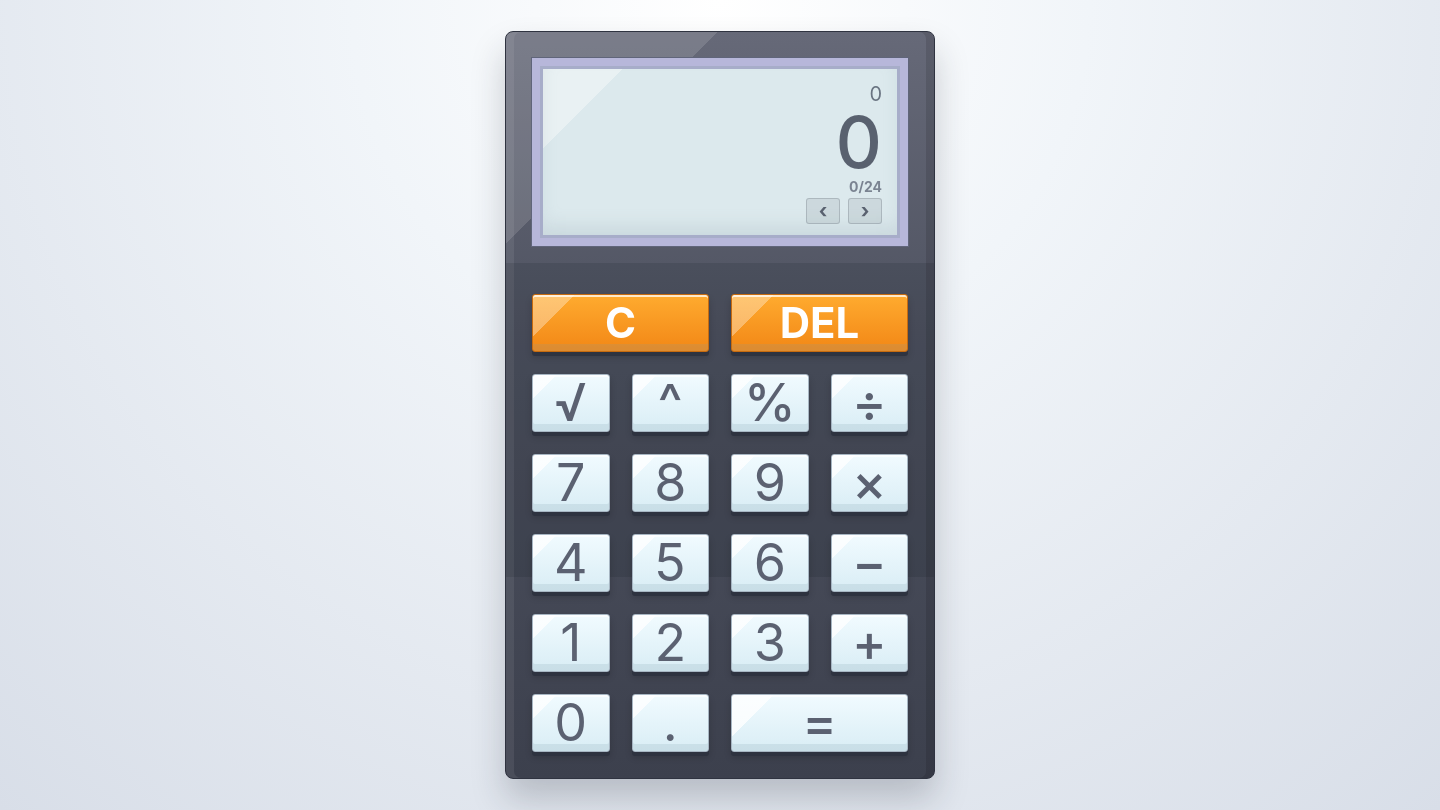
Test: App error handling › shows a local validation error for incomplete expressions
Click the button "1".
click(571, 643)  # box [532, 614, 610, 672]
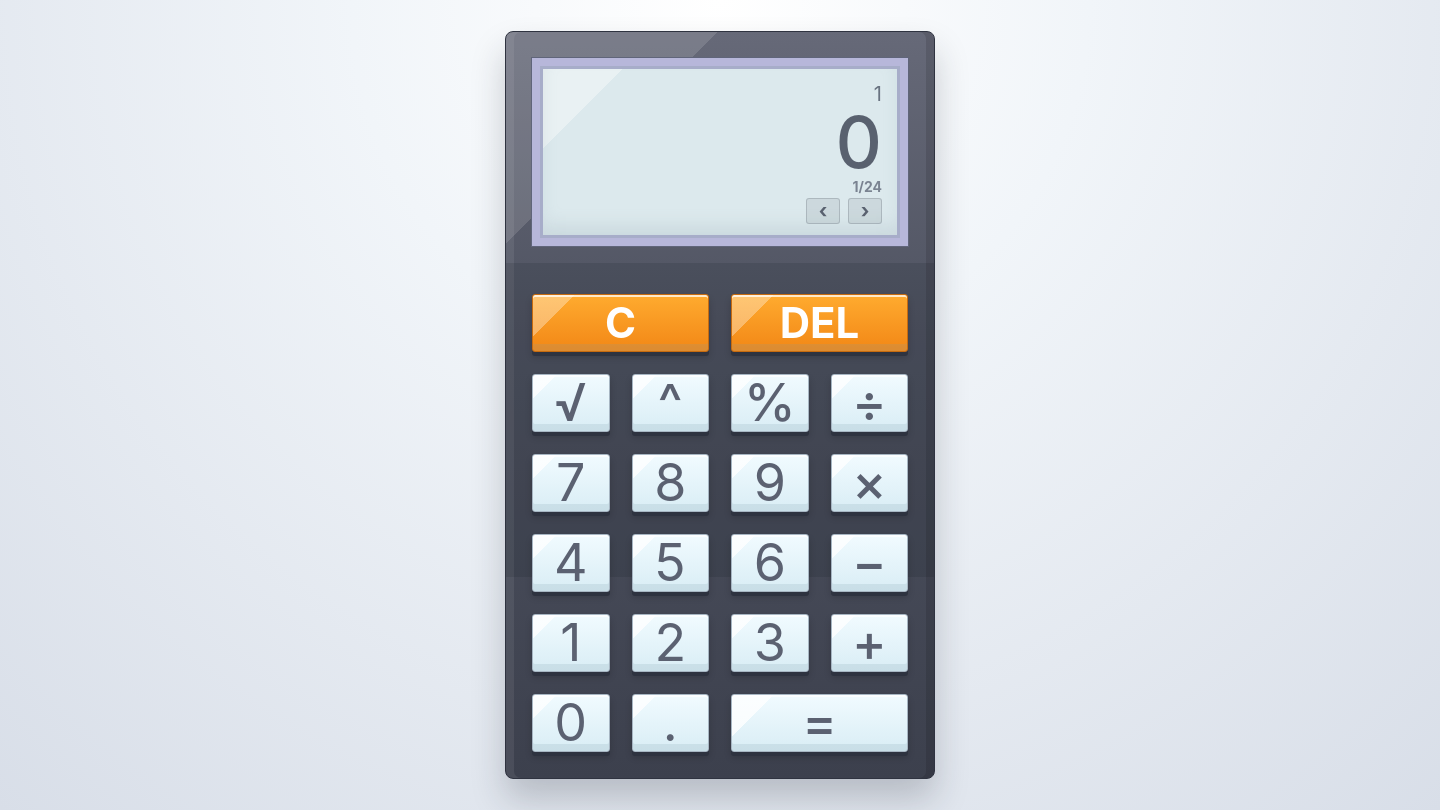
Click the button named "Sumar".
click(869, 643)  # box [830, 614, 908, 672]
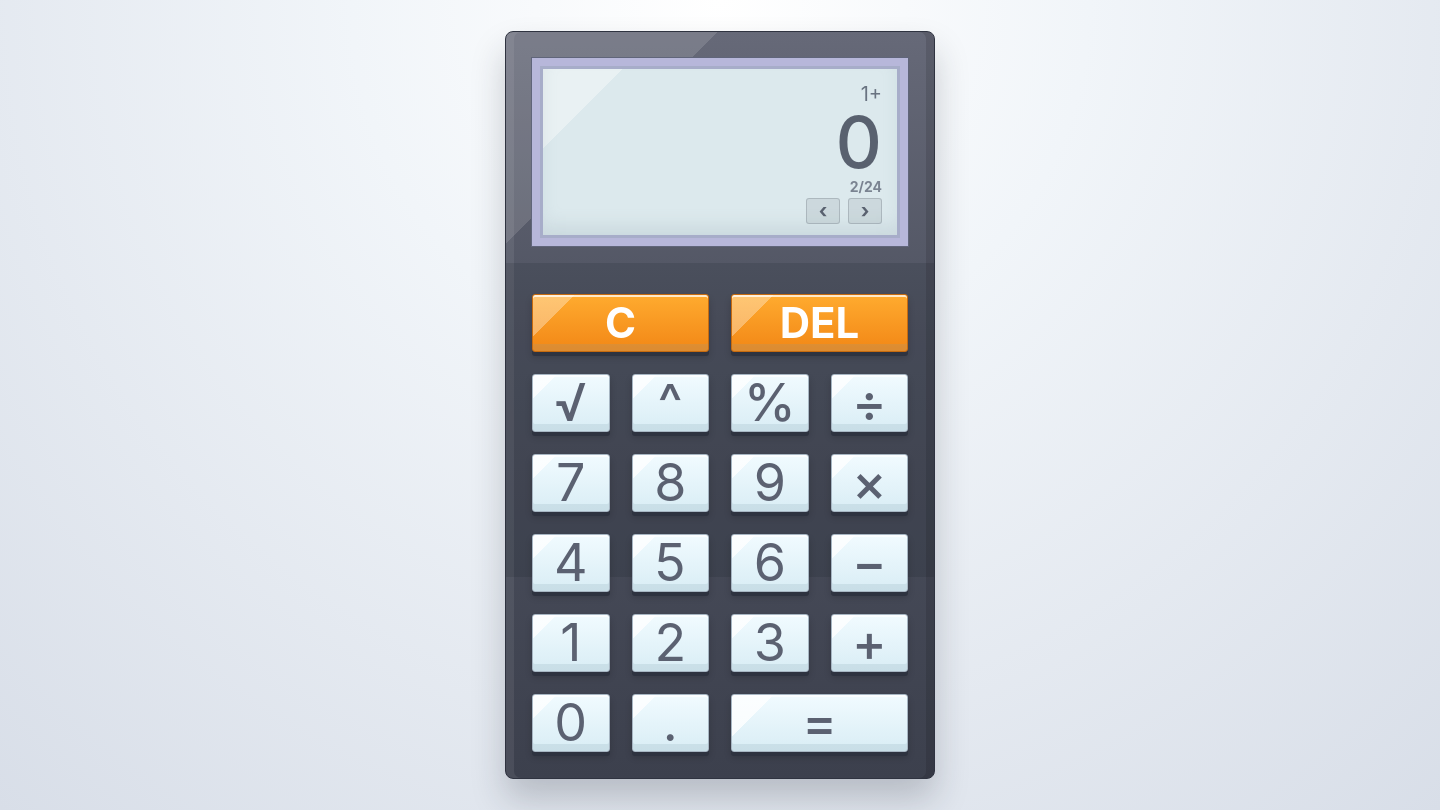
Click the button named "Calcular".
click(820, 723)  # box [731, 694, 908, 752]
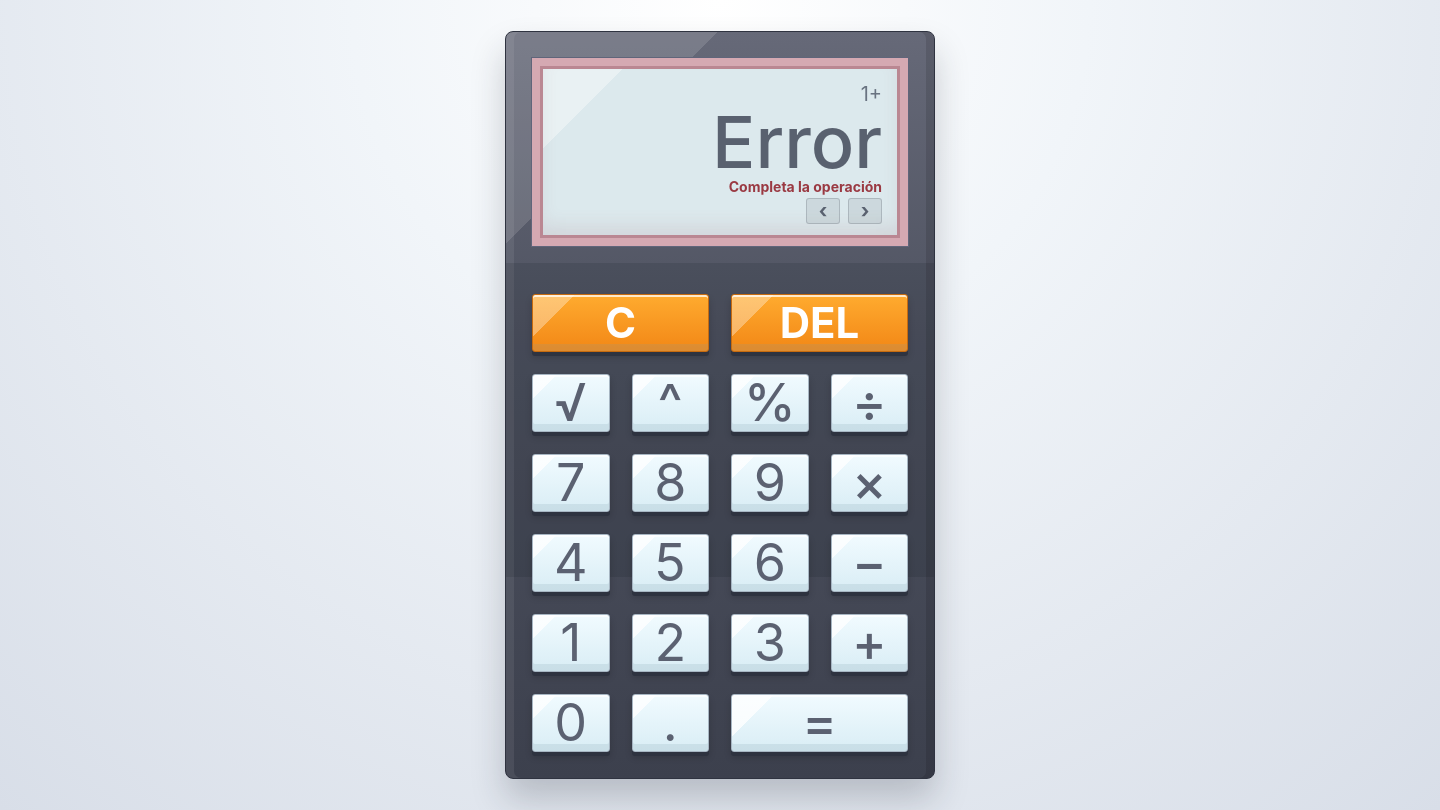
Now the text with test id "expression-display" reads "1+", box [861, 82, 882, 106]
Now the text with test id "result-display" reads "Error", box [712, 98, 882, 185]
Now the message reads "Completa la operación", box [729, 178, 882, 195]
